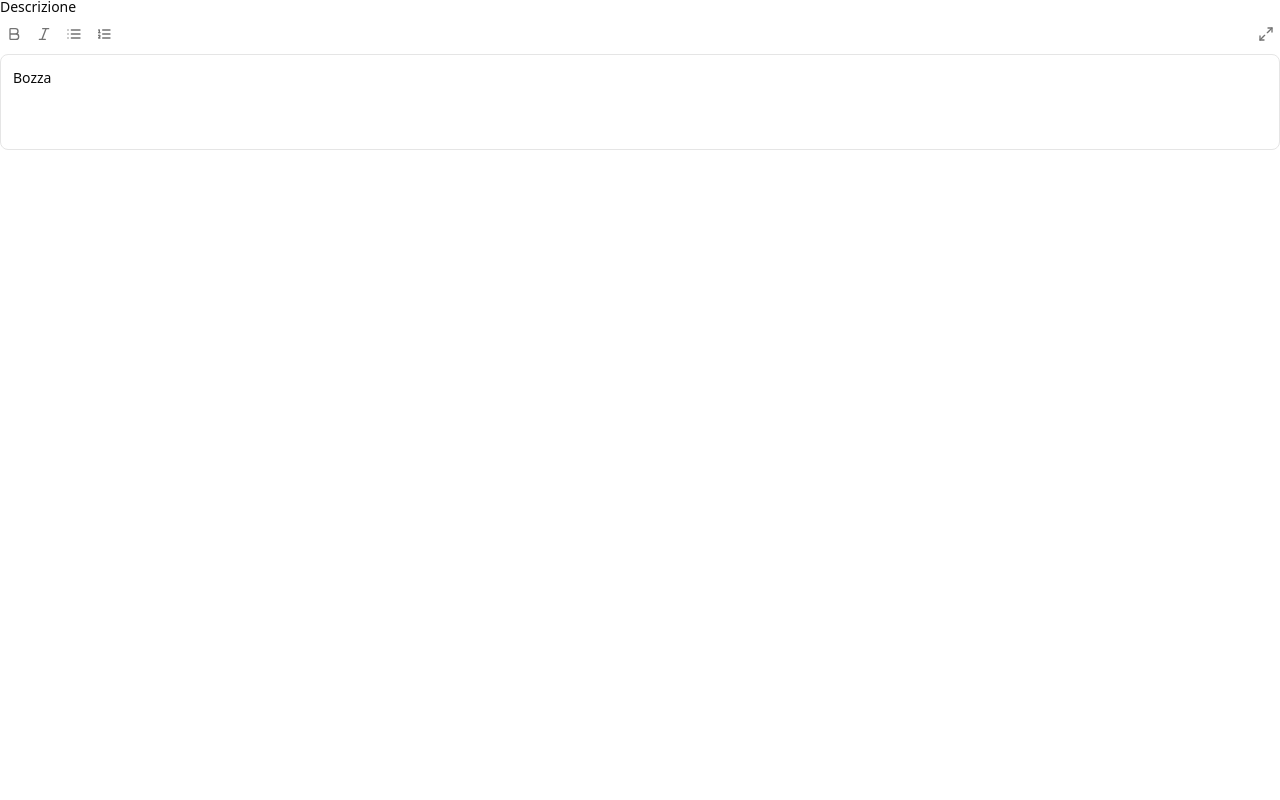
Scenario: campo descrizione dei form di creazione › porta etichetta, editor e finestra grande, uguali ovunque
Expected: the text box "Bozza" is shown, [13,68,52,87]
What coordinates should you click on to do the following:
click the button named "Apri l'editor grande"
I would click on:
 (1266, 34)
Its box is [1252,20,1279,48].
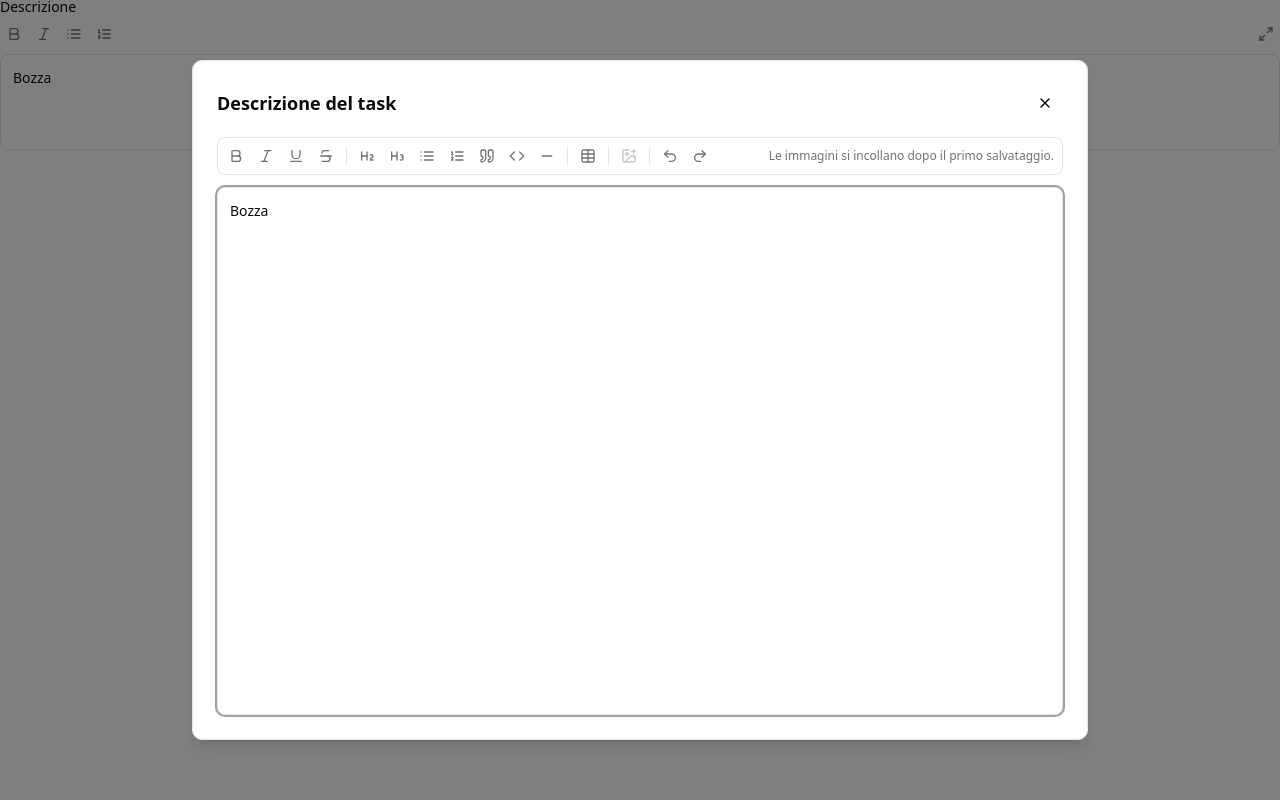
Now the dialog "Descrizione del task" is shown, box [192,60,1088,740]
